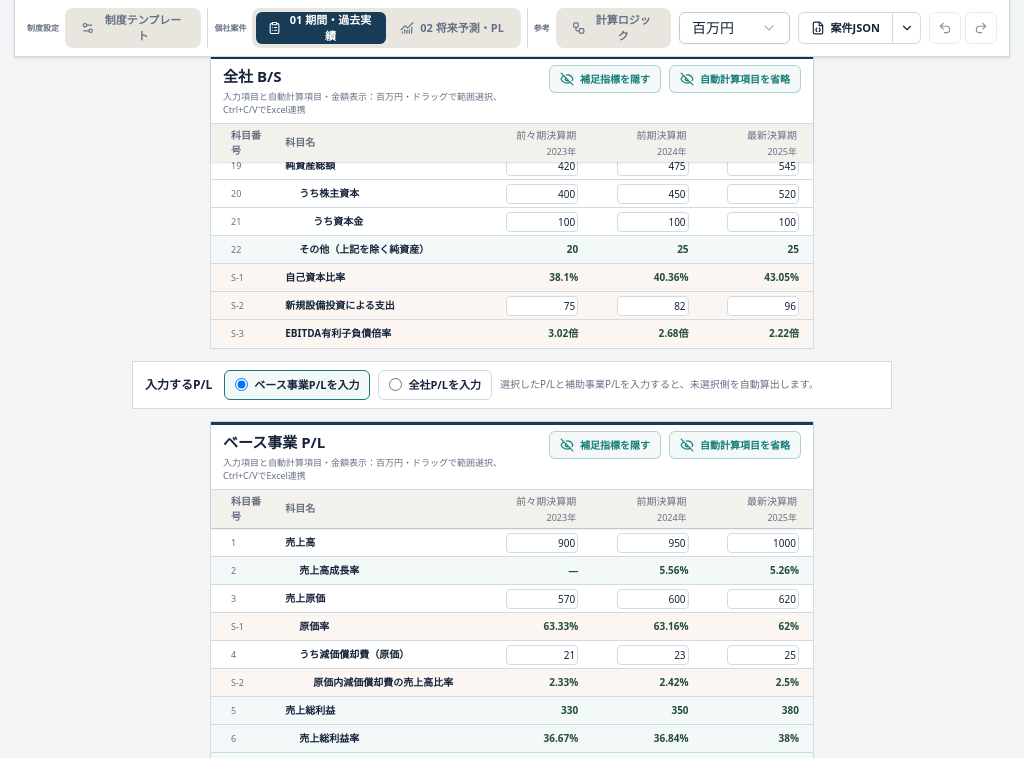
Test: 期間・過去実績 › 入力するP/Lを選択し、未選択の全社P/Lを自動算出して下に表示する
(page scrolled)
Expected: the element named "過去P/Lの入力方式" is shown, x1=145 y1=370 x2=879 y2=400
Expected: the radio button labelled "ベース事業P/Lを入力" is checked, x1=235 y1=378 x2=248 y2=391
Click the radio button labelled "全社P/Lを入力" at (396, 385), box x1=389 y1=378 x2=402 y2=391
(page scrolled)
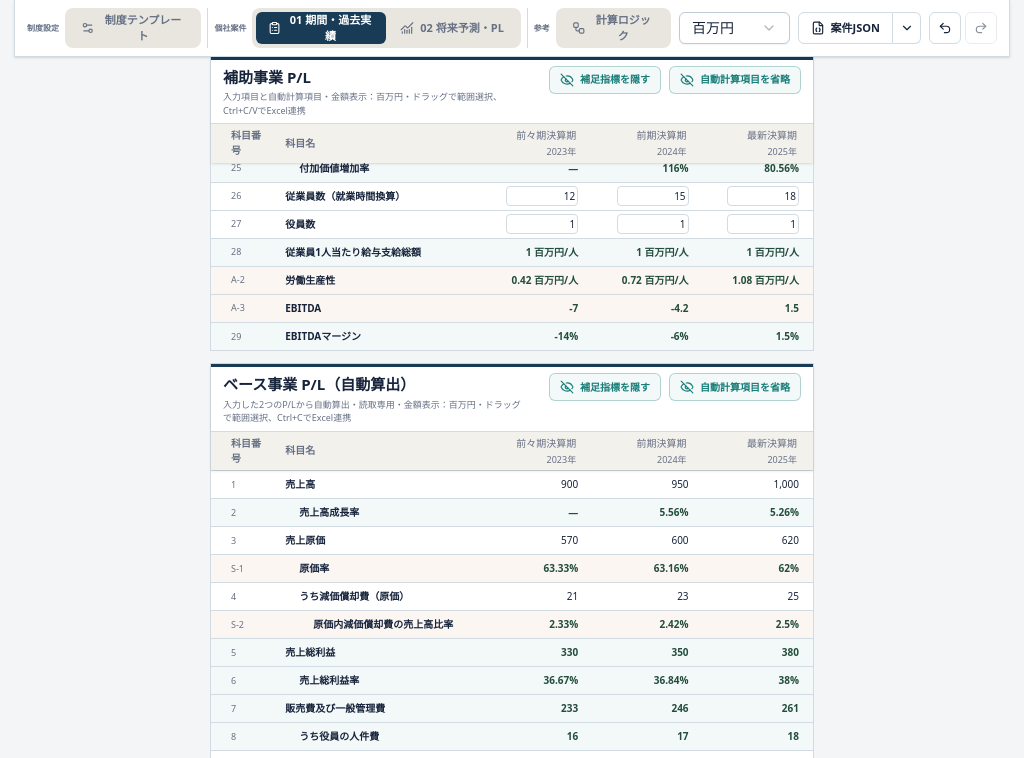
Now the heading "ベース事業 P/L（自動算出）" is shown, box x1=223 y1=374 x2=415 y2=394
